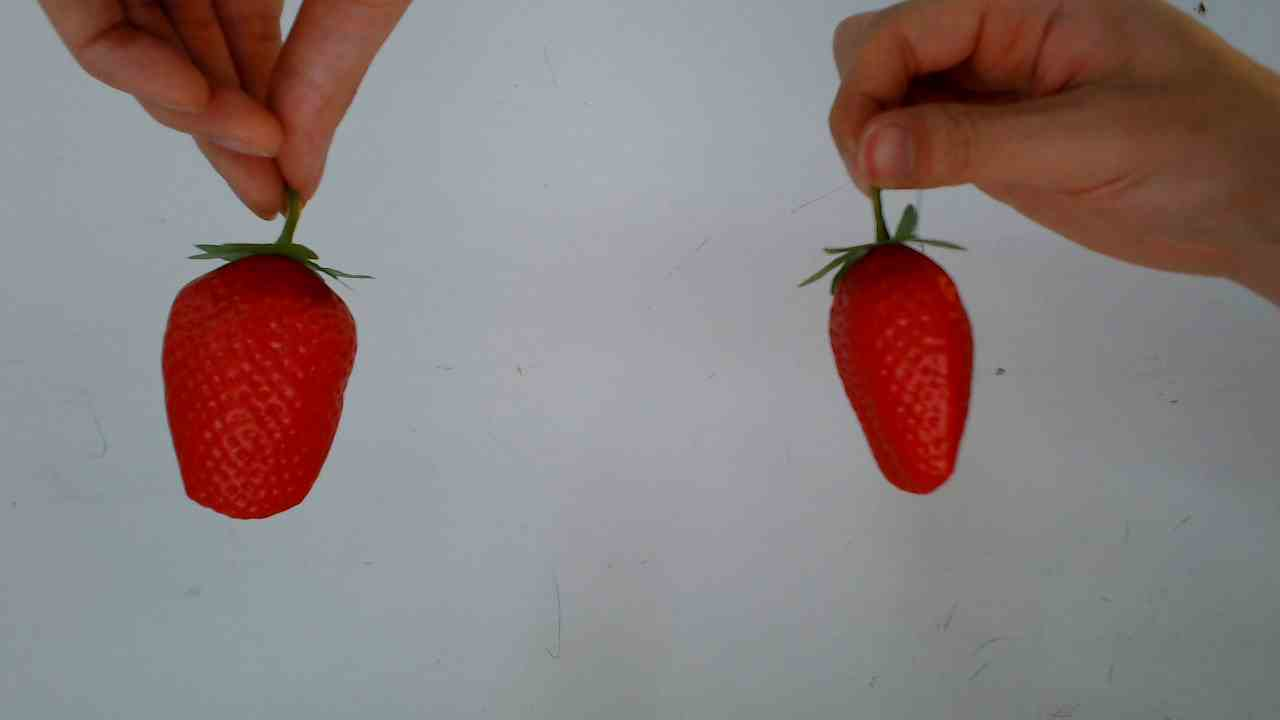strawberry: (149, 230, 390, 523), (810, 234, 1004, 500)
